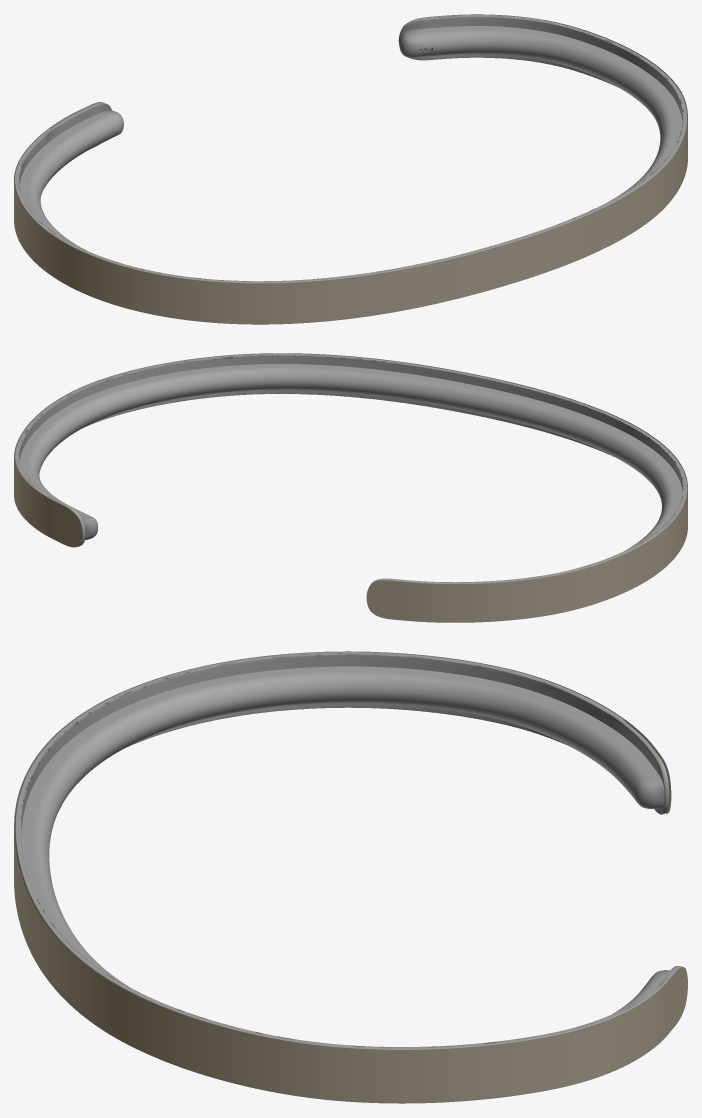
File: EX-bold-silver.glb
3 renders of one model, top to bottom at view 1: azimuth 30°, elevation 25°; view 2: azimuth 150°, elevation 25°; view 3: azimuth 270°, elevation 25°, orthographic. The views are drawn at different scales.
Parts seen in each view (by area): view 1: EX-omote.003, EX-body.003; view 2: EX-body.003, EX-omote.003; view 3: EX-body.003, EX-omote.003.
Part boxes in pixels (x1,y1,x2,y2): EX-omote.003: (14, 14, 687, 324); EX-body.003: (14, 15, 687, 283); EX-body.003: (14, 353, 687, 584); EX-omote.003: (14, 353, 687, 622); EX-body.003: (14, 652, 682, 1049); EX-omote.003: (14, 651, 687, 1103).
Size of the model in its own units: 3.42 by 0.2144 by 2.45.
2 materials, 2 textured.
